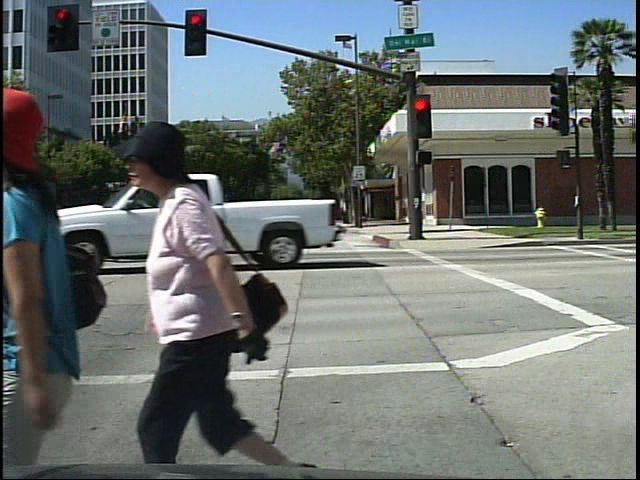person: (125, 108, 306, 470), (0, 83, 127, 470)
